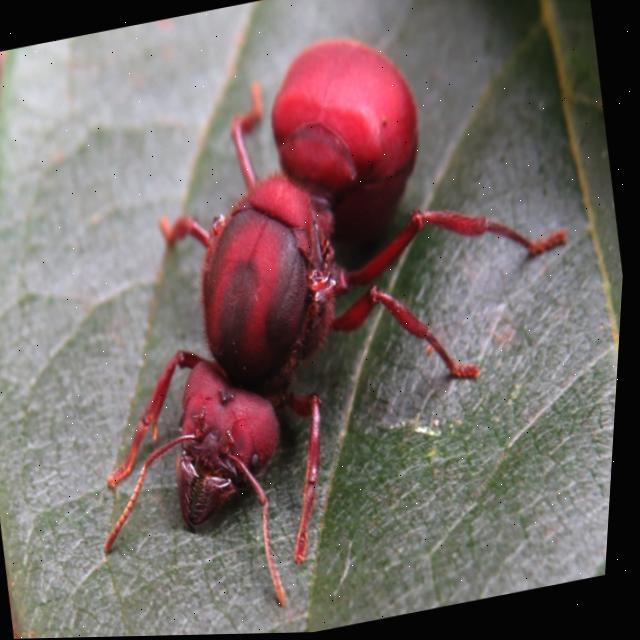Alive-Female-Dealate: (25, 0, 635, 639)
